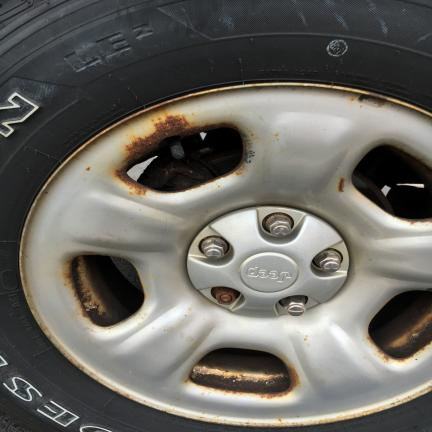karat: (115, 115, 240, 192), (72, 256, 144, 326), (191, 350, 290, 393), (370, 292, 431, 358)
